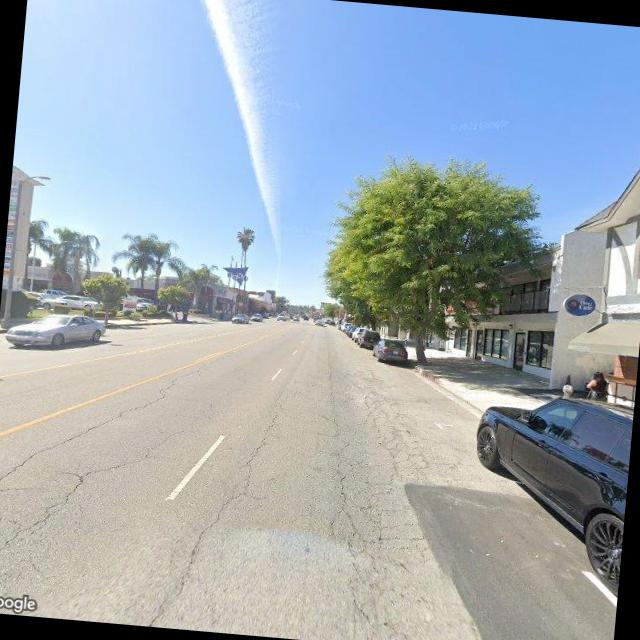crack: (299, 387, 456, 640)
pothole: (0, 370, 197, 597), (156, 385, 292, 630)
